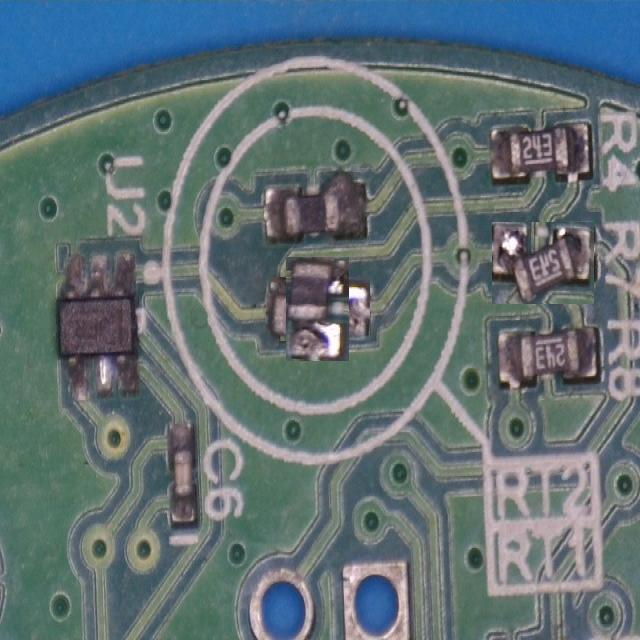Incorrect_installation: (493, 222, 592, 303), (287, 258, 348, 360)
